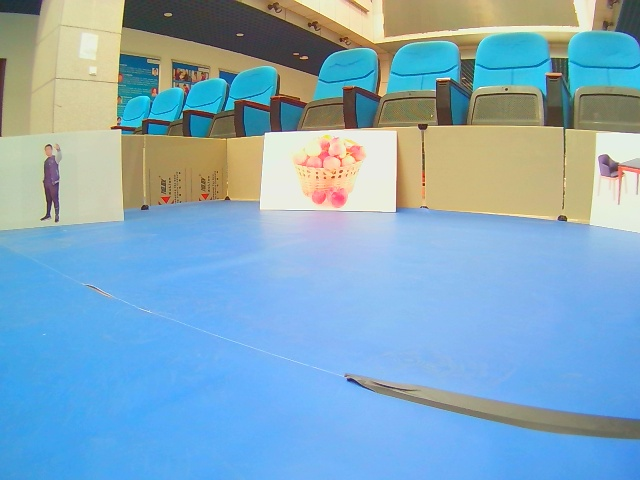food: (261, 132, 398, 215)
person: (1, 130, 123, 232)
